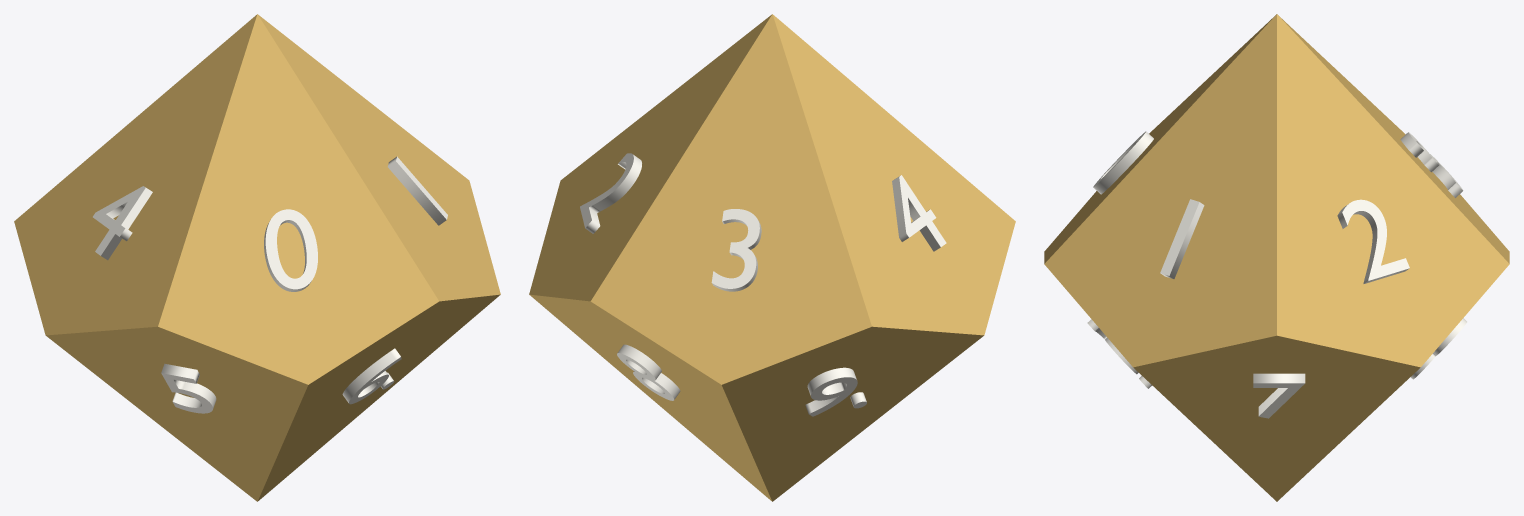
Rendered from Dice_D10.glb.
3 views of the same model, side by side, from view 1: azimuth 30°, elevation 25°; view 2: azimuth 150°, elevation 25°; view 3: azimuth 270°, elevation 25° (orthographic).
Visible parts, largest first — view 1: Dice_D10; view 2: Dice_D10; view 3: Dice_D10.
Part boxes in pixels (left/top/right/bottom): Dice_D10: left=14, top=14, right=500, bottom=501; Dice_D10: left=529, top=14, right=1015, bottom=501; Dice_D10: left=1044, top=14, right=1509, bottom=501.
Bounding box in the file's own units: 0.9091 × 1 × 0.8646.
